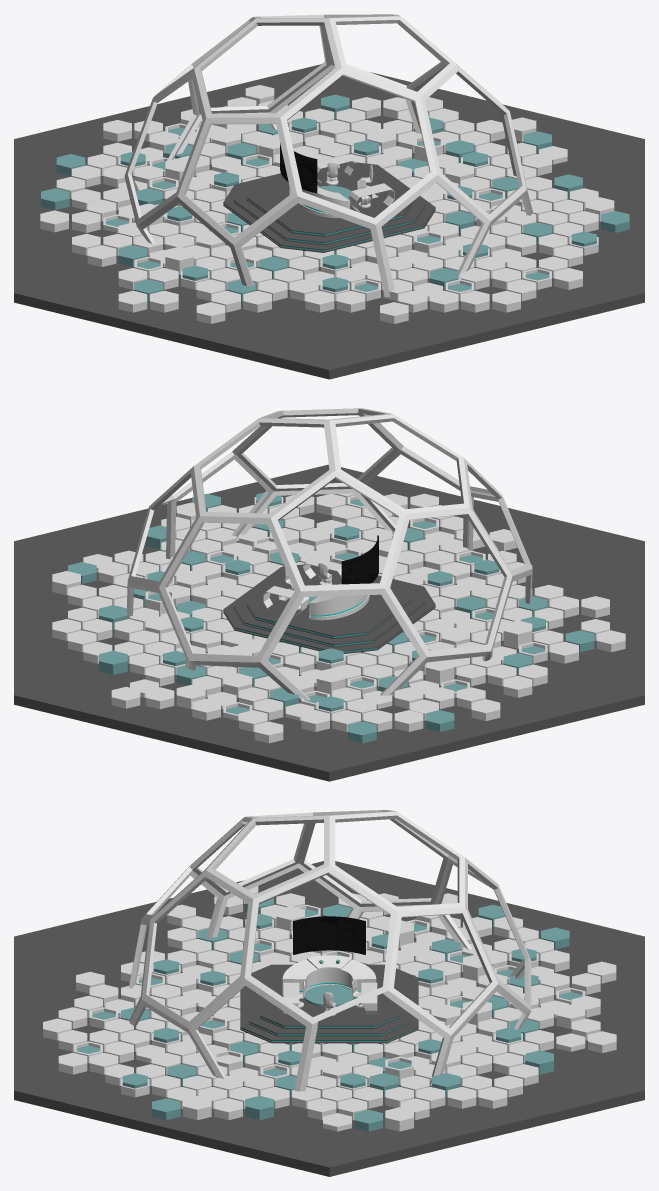
3 renders of one model, top to bottom at view 1: azimuth 30°, elevation 25°; view 2: azimuth 150°, elevation 25°; view 3: azimuth 270°, elevation 25°, orthographic.
Parts seen in each view (by area): view 1: floor, dom, stage, screen, table, block_174, scifi-table003, block_209, block_218, block_118, block_220, block_231 (+15 smaller); view 2: floor, dom, stage, table, screen, block_174, block_140, block_11, block_37, block_39, block_64, block_78 (+13 smaller); view 3: floor, dom, stage, screen, table, pCylinder1, block_18, block_103, block_10, block_228, block_207, block_42 (+12 smaller).
Boxes of the visible parts, x1,y1,x2,y2 form: floor: [14, 64, 644, 379]; dom: [124, 14, 533, 296]; stage: [223, 162, 435, 252]; screen: [280, 143, 317, 193]; table: [289, 186, 349, 217]; block_174: [165, 246, 194, 274]; scifi-table003: [349, 183, 394, 212]; block_209: [305, 290, 334, 312]; block_218: [118, 290, 147, 312]; block_118: [336, 290, 365, 312]; block_220: [196, 302, 225, 323]; block_231: [87, 245, 116, 266]; floor: [14, 464, 644, 781]; dom: [126, 408, 532, 700]; stage: [223, 564, 435, 653]; table: [309, 595, 369, 620]; screen: [341, 535, 378, 584]; block_174: [503, 620, 532, 648]; block_140: [316, 668, 345, 696]; block_11: [425, 659, 454, 685]; block_37: [99, 650, 127, 674]; block_39: [145, 687, 174, 709]; block_64: [425, 710, 454, 731]; block_78: [471, 699, 500, 721]; floor: [14, 861, 644, 1176]; dom: [129, 810, 531, 1091]; stage: [240, 964, 418, 1043]; screen: [293, 916, 365, 954]; table: [282, 955, 376, 994]; pCylinder1: [304, 985, 354, 1006]; block_18: [385, 1107, 413, 1131]; block_103: [245, 1096, 273, 1120]; block_10: [183, 1096, 211, 1120]; block_228: [121, 1073, 149, 1097]; block_207: [58, 1052, 87, 1074]; block_42: [478, 1087, 507, 1108].
Size of the model in its own units: 3676 by 1163 by 3184.
